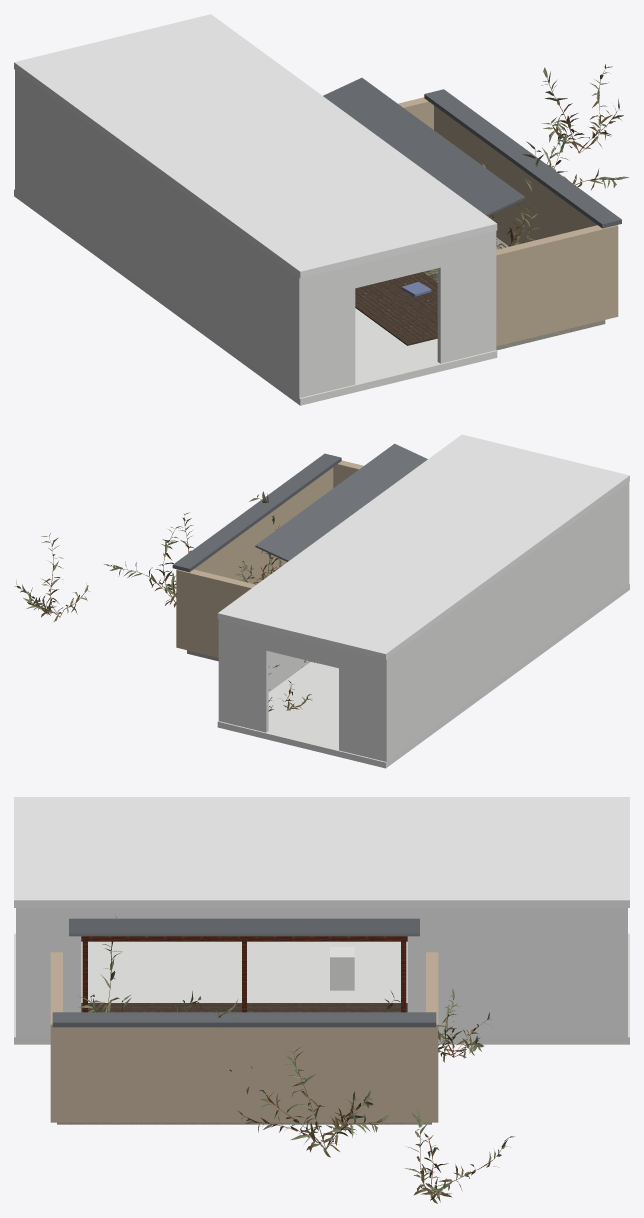
Rendered from room_engawa_s3.glb.
3 views of the same model, one above another, from view 1: azimuth 30°, elevation 25°; view 2: azimuth 150°, elevation 25°; view 3: azimuth 270°, elevation 25° (orthographic). The views are drawn at different scales.
Parts seen in each view (by area): view 1: room_engawa_s3_static; view 2: room_engawa_s3_static; view 3: room_engawa_s3_static.
Boxes of the visible parts, x1,y1,x2,y2 form: room_engawa_s3_static: (14,14,628,405); room_engawa_s3_static: (14,434,629,768); room_engawa_s3_static: (14,797,629,1203).
Bounding box in the file's own units: 15.96 × 4.58 × 15.1.
19 materials, 7 textured.
